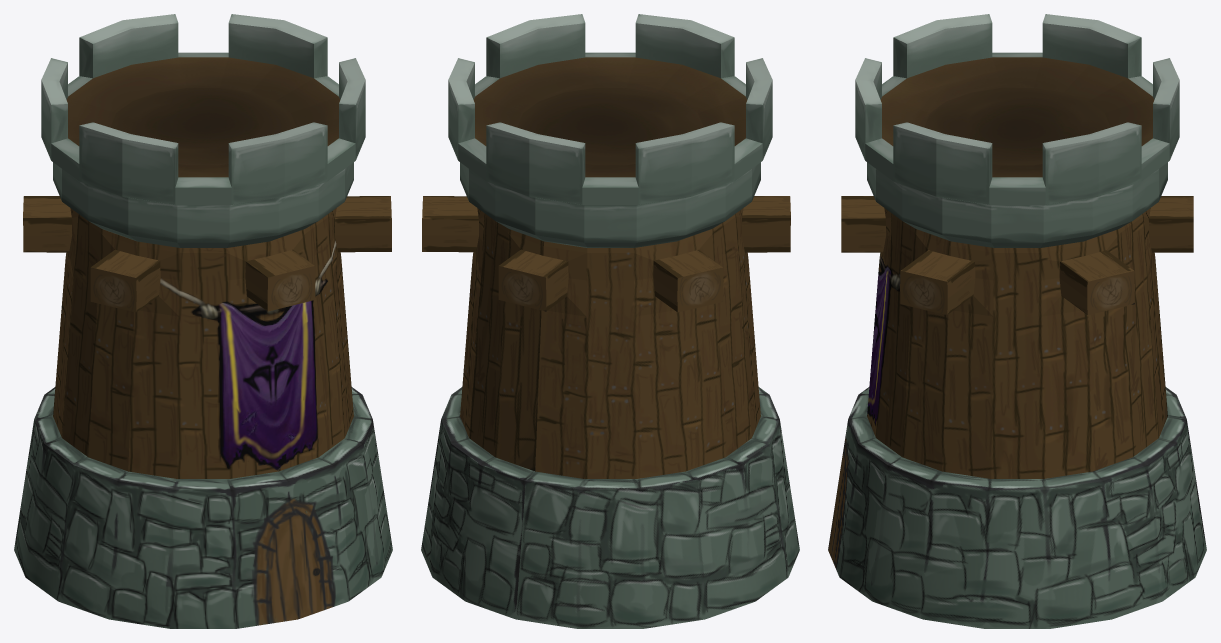
Rendered from torre.FBX.
3 views of the same model, side by side, from view 1: azimuth 30°, elevation 25°; view 2: azimuth 150°, elevation 25°; view 3: azimuth 270°, elevation 25° (orthographic).
Parts seen in each view (by area): view 1: Cylinder006; view 2: Cylinder006; view 3: Cylinder006.
Boxes of the visible parts, x1,y1,x2,y2 form: Cylinder006: (14, 14, 392, 628); Cylinder006: (421, 14, 799, 628); Cylinder006: (828, 14, 1206, 628).
Size of the model in its own units: 34444 by 47924 by 34976.
1 material, 1 textured.
